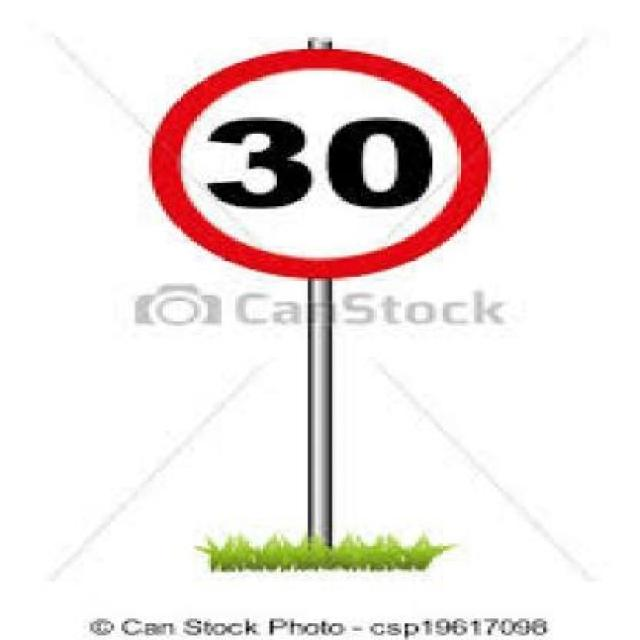forb_speed_over_30: (166, 54, 480, 269)
